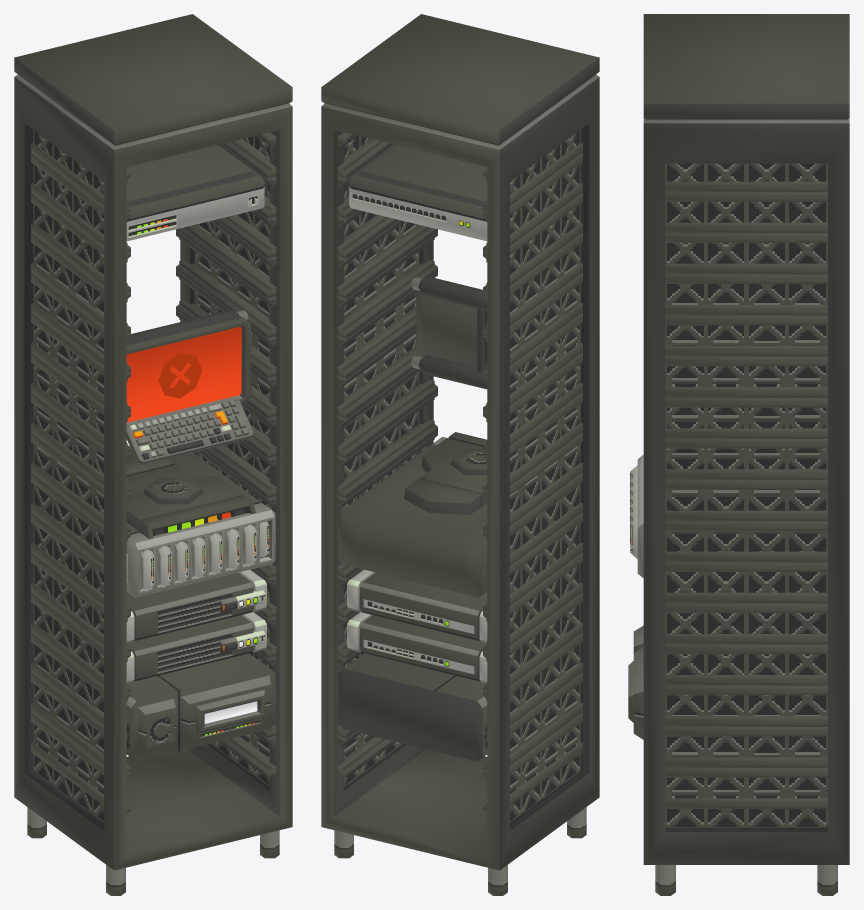
Rendered from rack-error.glb.
3 views of the same model, side by side, from view 1: azimuth 30°, elevation 25°; view 2: azimuth 150°, elevation 25°; view 3: azimuth 270°, elevation 25° (orthographic). The views are drawn at different scales.
Visible parts, largest first — view 1: Plane.045, Plane.047, Plane.033, Plane.073, Plane (×2), Plane.062, Plane.070, Plane.069, Plane.048, Plane.049, Plane.046, Plane.051 (×2) (+1 smaller); view 2: Plane.045, Plane.047, Plane.069, Plane.033, Plane (×2), Plane.062, Plane.073, Plane.070, Plane.046, Plane.063; view 3: Plane.045, Plane.047, Plane.033, Plane.046, Plane.069.
Boxes of the visible parts, left/top/right/bottom form: Plane.045: left=14, top=14, right=292, bottom=870; Plane.047: left=31, top=132, right=276, bottom=812; Plane.033: left=126, top=653, right=275, bottom=761; Plane.073: left=126, top=309, right=251, bottom=427; Plane (×2): left=126, top=569, right=266, bottom=682; Plane.062: left=126, top=145, right=267, bottom=241; Plane.070: left=126, top=455, right=255, bottom=538; Plane.069: left=126, top=449, right=275, bottom=597; Plane.048: left=129, top=400, right=248, bottom=459; Plane.049: left=126, top=397, right=253, bottom=464; Plane.046: left=27, top=807, right=279, bottom=895; Plane.051 (×2): left=220, top=590, right=265, bottom=653; Plane.045: left=321, top=14, right=599, bottom=870; Plane.047: left=337, top=132, right=582, bottom=812; Plane.069: left=338, top=437, right=487, bottom=597; Plane.033: left=338, top=653, right=487, bottom=761; Plane (×2): left=347, top=569, right=487, bottom=682; Plane.062: left=346, top=145, right=487, bottom=241; Plane.073: left=410, top=276, right=487, bottom=389; Plane.070: left=404, top=432, right=487, bottom=514; Plane.046: left=334, top=807, right=586, bottom=895; Plane.063: left=352, top=193, right=470, bottom=228; Plane.045: left=643, top=14, right=849, bottom=864; Plane.047: left=665, top=181, right=827, bottom=808; Plane.033: left=628, top=625, right=643, bottom=739; Plane.046: left=655, top=865, right=837, bottom=895; Plane.069: left=637, top=455, right=643, bottom=578.
Bounding box in the file's own units: 0.2195 × 0.9082 × 0.229.
1 material, 1 textured.
